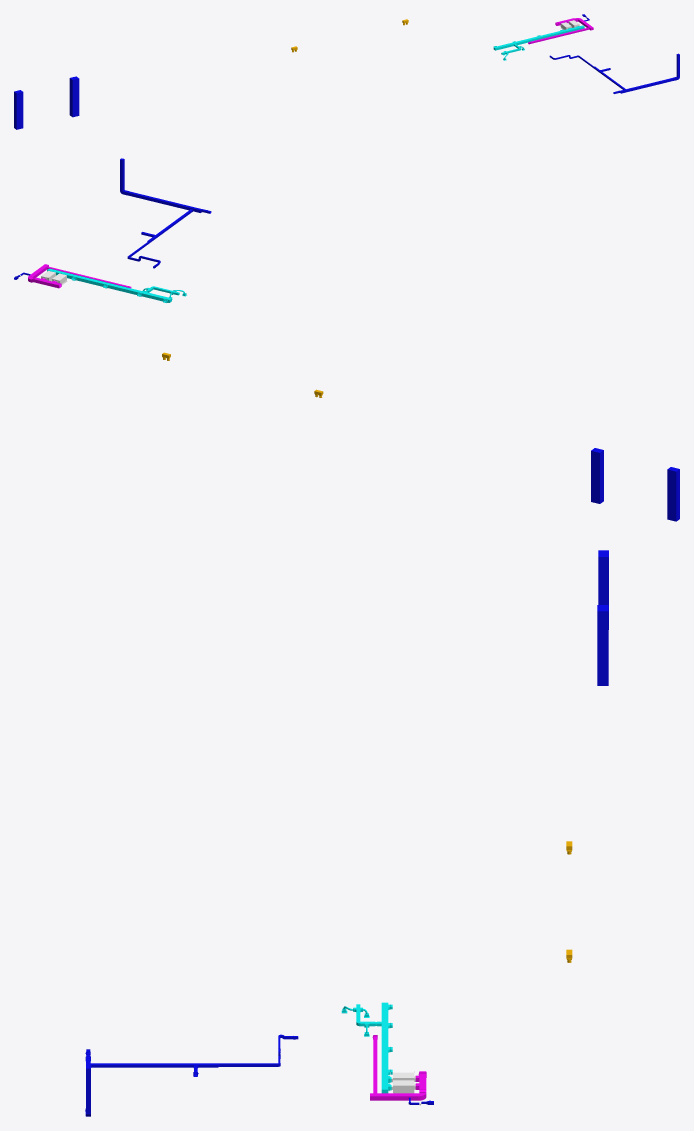
Rendered from detail-ducts-lite-3-2f.glb.
The picture shows the model from 3 angles, top to bottom: view 1: azimuth 30°, elevation 25°; view 2: azimuth 150°, elevation 25°; view 3: azimuth 270°, elevation 25°; orthographic projection. The views are drawn at different scales.
Bounding box in the file's own units: 132 × 9.3 × 55.99.
